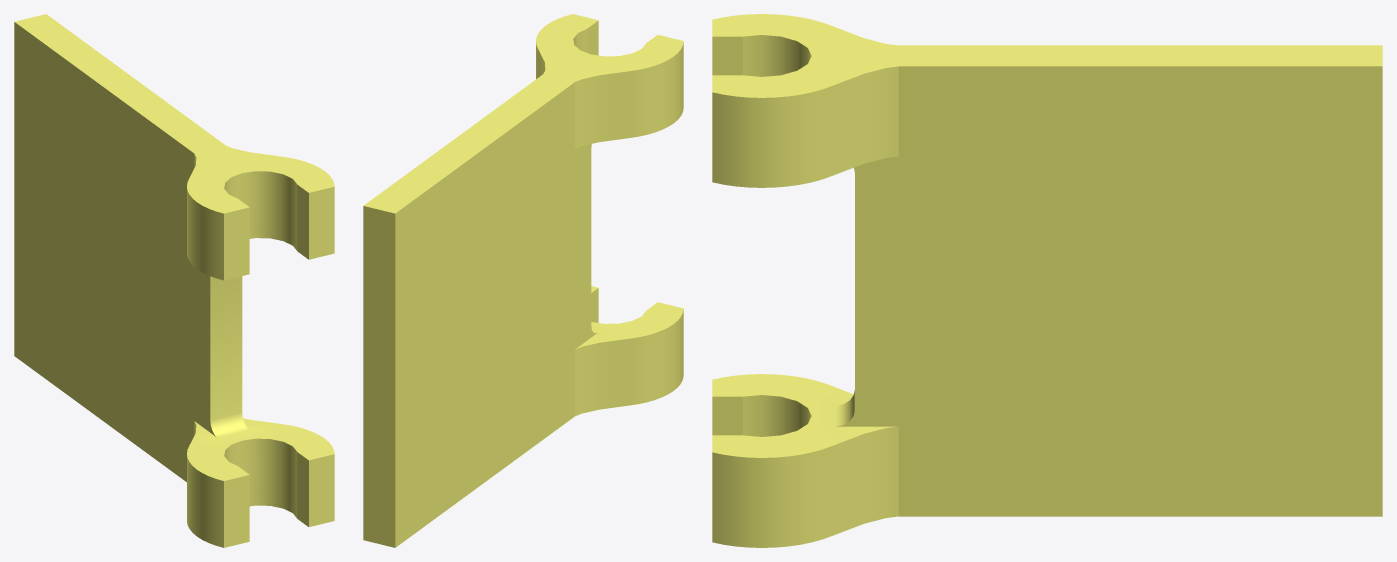
3 renders of one model, left to right at view 1: azimuth 30°, elevation 25°; view 2: azimuth 150°, elevation 25°; view 3: azimuth 270°, elevation 25°, orthographic. The views are drawn at different scales.
Parts seen in each view (by area): view 1: 11055.dat; view 2: 11055.dat; view 3: 11055.dat.
Part boxes in pixels (x1,y1,x2,y2): 11055.dat: (14,14,334,547); 11055.dat: (363,14,683,547); 11055.dat: (712,14,1382,547).
Size of the model in its own units: 0.0064 by 0.016 by 0.0216.
